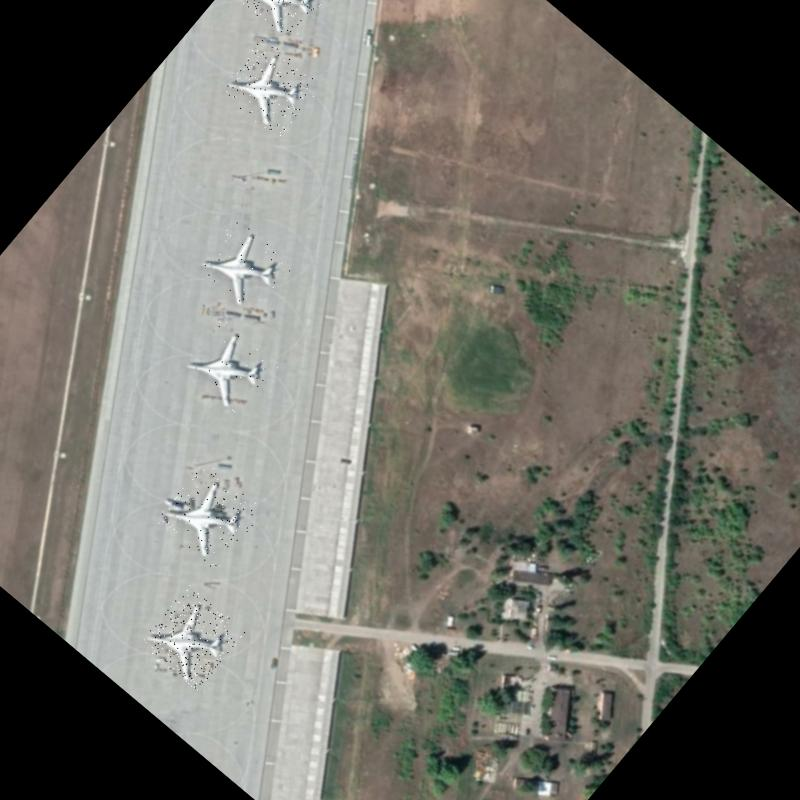A6: (153, 459, 265, 571), (138, 584, 246, 691), (217, 36, 322, 140), (193, 214, 298, 318), (180, 316, 282, 418), (232, 0, 334, 45)
